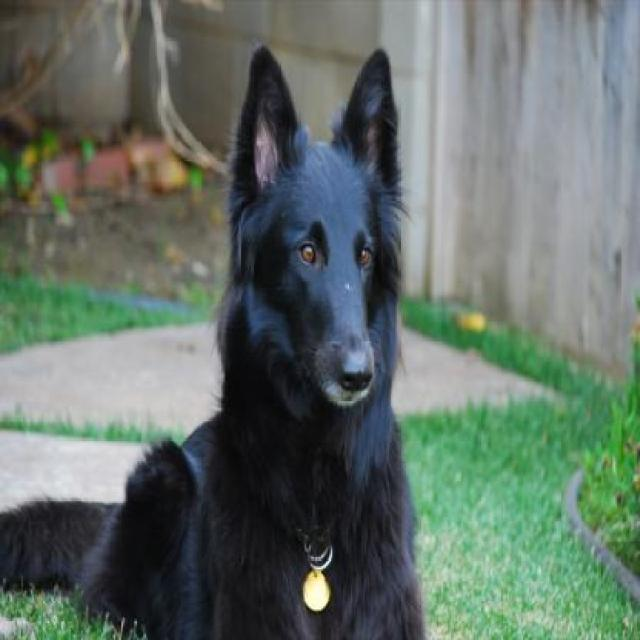animals: (131, 37, 443, 640)
